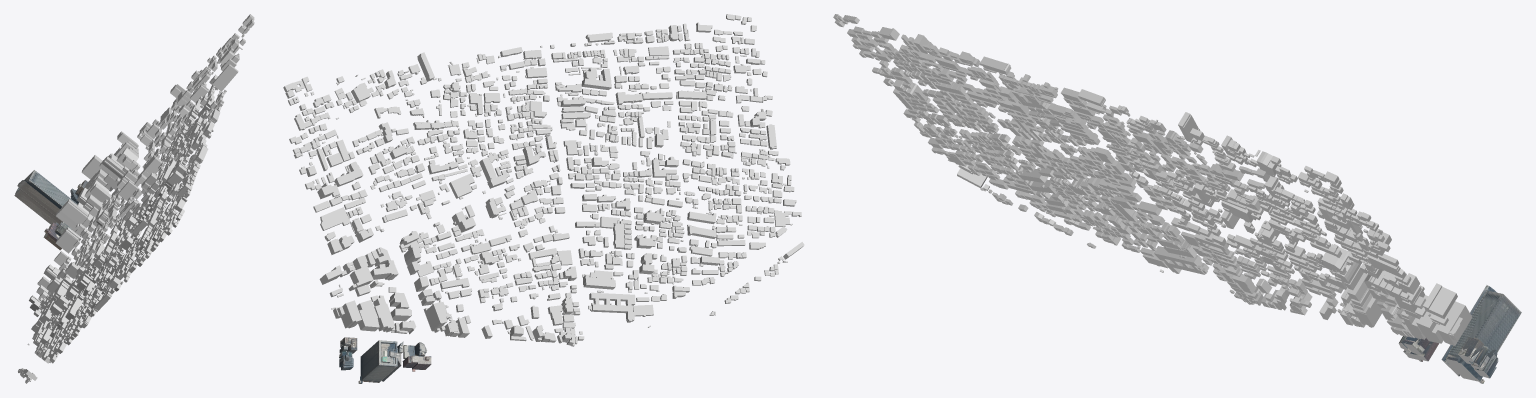
The model's file is data129.glb.
3 renders of one model, left to right at view 1: azimuth 30°, elevation 25°; view 2: azimuth 150°, elevation 25°; view 3: azimuth 270°, elevation 25°, orthographic. The views are drawn at different scales.
Size of the model in its own units: 831 by 497 by 1015.
Materials: 2 (1 with a texture image).
